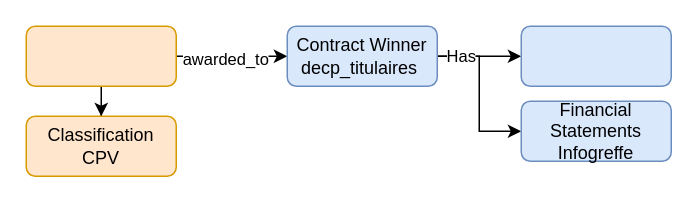
Image size: 698x203. Some labels were removed from this diagram. The shapes that lost their labels are listed below. From the top down, each one's box as (x1, y1, x2, y2) in pixels, then its label:
(25, 25, 176, 86): Contract decp_marches
(520, 25, 671, 86): Legal Information Siren
